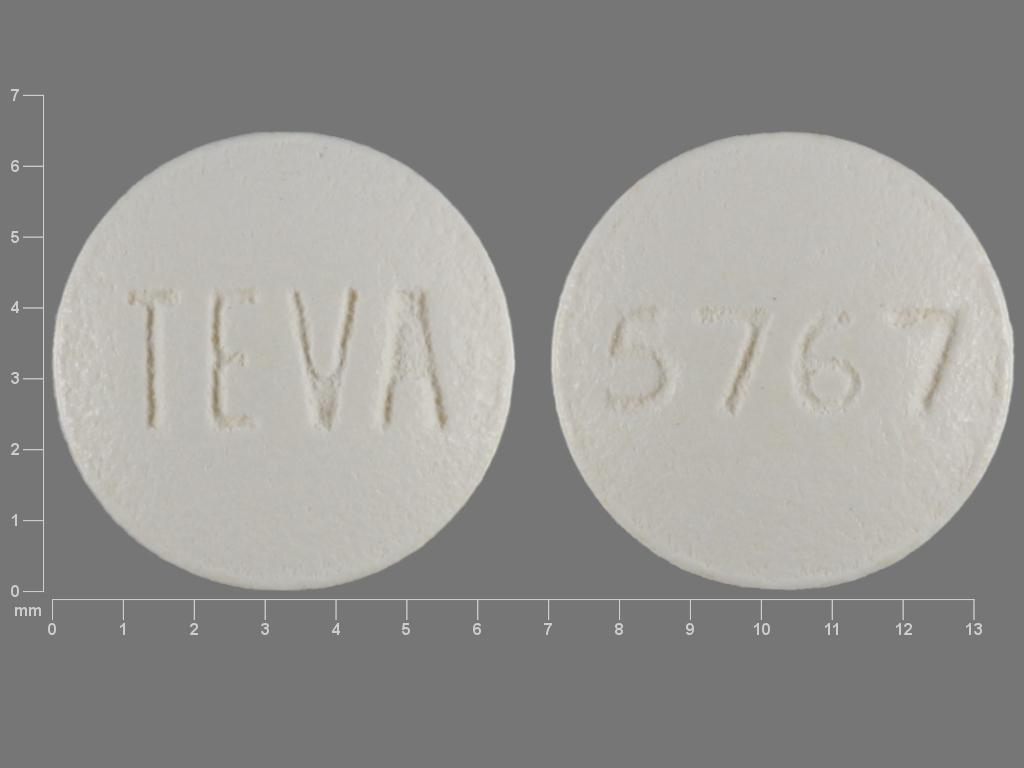Pill: (46, 119, 524, 598), (541, 124, 1024, 590)
